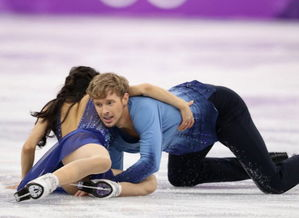fall: (5, 57, 166, 206)
